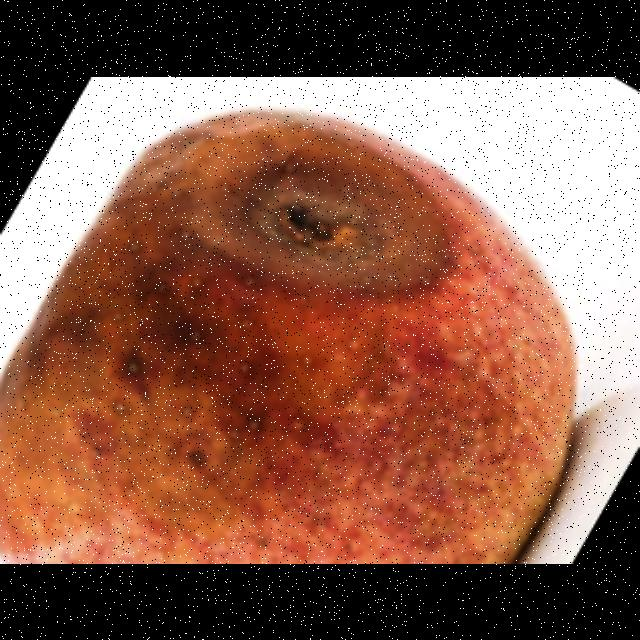Apel Tidak Segar: (0, 121, 587, 563)
